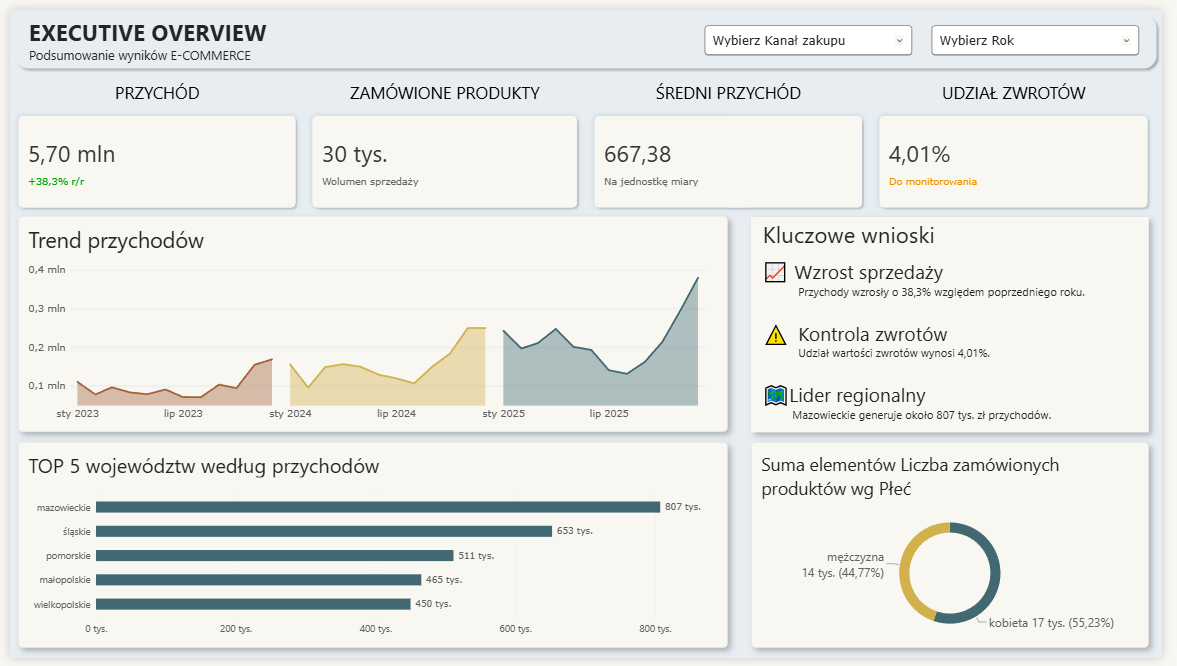

What the dashboard file says about the page in this screenshot:
{"tool":"powerbi","page":{"name":"Strona 1","canvas":[1920,1080],"ordinal":0},"visuals":[{"type":"shape","box":[0,0,1920,106.7],"z":0},{"type":"textbox","box":[31.7,11.7,458.3,95],"z":1000},{"type":"cardVisual","title":"PRZYCHÓD","fields":{"Data":["Sum(dane.Przychód)"]},"box":[0,118.3,490.7,225.3],"z":2000},{"type":"cardVisual","title":"ZAMÓWIONE PRODUKTY","fields":{"Data":["Sum(dane.Liczba zamówionych produktów)"]},"box":[490,118.3,469.3,225.3],"z":3000},{"type":"cardVisual","title":"ŚREDNI PRZYCHÓD","fields":{"Data":["Avg(dane.Przychód)"]},"box":[960,118.3,474.7,225.3],"z":4000},{"type":"cardVisual","title":"UDZIAŁ ZWROTÓW","fields":{"Data":["dane.Suma elementów Wartość zwrotu podzielić przez Suma elementów Wartość zamówienia"]},"box":[1435,118.3,475.7,225.7],"z":5000},{"type":"lineChart","title":"Trend przychodów","fields":{"Category":["dane.Data zamówienia.Variation.Hierarchia dat.Rok","dane.Data zamówienia.Variation.Hierarchia dat.Miesiąc"],"Y":["Kalendarz.Przychód 2025","Kalendarz.Przychód 2024","Kalendarz.Przychód 2023"]},"box":[13.3,343.3,1183.3,360],"z":6000},{"type":"barChart","title":"TOP 5 województw według przychodów","fields":{"Category":["dane.Województwo"],"Y":["Sum(dane.Przychód)"]},"box":[13.3,720,1183.3,343.3],"z":7000},{"type":"listSlicer","fields":{"Values":["dane.Data zamówienia.Variation.Hierarchia dat.Rok"]},"box":[1520,11.7,378.3,95],"z":8000},{"type":"donutChart","fields":{"Series":["dane.Płeć"],"Y":["Sum(dane.Liczba zamówionych produktów)"]},"box":[1234.3,720,662.9,342.9],"z":9000},{"type":"textbox","box":[1234.3,344.3,662.9,358.6],"z":10000},{"type":"listSlicer","fields":{"Values":["dane.Kanał zakupu"]},"box":[1141.7,11.7,378.3,95],"z":11000}]}

Visuals, with their boxes in screenshot pixels (x1, y1, x2, y2), scaled from the page's 1920x1080 canvas onto the 1177x666 screenshot:
shape: pyautogui.locateOnScreen(0, 0, 1176, 66)
textbox: pyautogui.locateOnScreen(19, 7, 300, 66)
"PRZYCHÓD" cardVisual: pyautogui.locateOnScreen(0, 73, 301, 212)
"ZAMÓWIONE PRODUKTY" cardVisual: pyautogui.locateOnScreen(300, 73, 588, 212)
"ŚREDNI PRZYCHÓD" cardVisual: pyautogui.locateOnScreen(588, 73, 880, 212)
"UDZIAŁ ZWROTÓW" cardVisual: pyautogui.locateOnScreen(880, 73, 1171, 212)
"Trend przychodów" lineChart: pyautogui.locateOnScreen(8, 212, 734, 434)
"TOP 5 województw według przychodów" barChart: pyautogui.locateOnScreen(8, 444, 734, 656)
listSlicer - dane.Data zamówienia.Variation.Hierarchia dat.Rok: pyautogui.locateOnScreen(932, 7, 1164, 66)
donutChart - dane.Płeć x Sum(dane.Liczba zamówionych produktów): pyautogui.locateOnScreen(757, 444, 1163, 655)
textbox: pyautogui.locateOnScreen(757, 212, 1163, 433)
listSlicer - dane.Kanał zakupu: pyautogui.locateOnScreen(700, 7, 932, 66)
